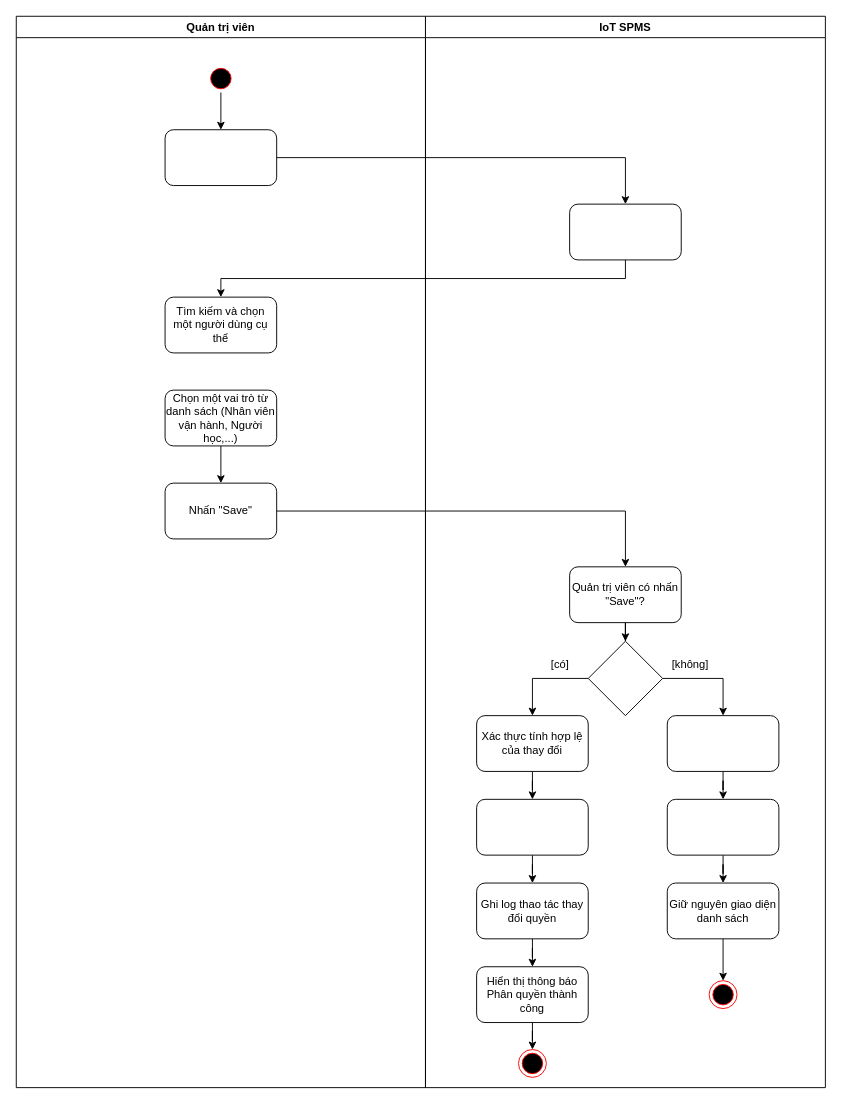
Some shapes in this 842 by 1104 pixel diagram are drawn without their labels. The shapes that lost their labels are listed below. From the top down, each one's centre as x and y in pixels, then its label:
point (220, 157): Truy cập trang "User Access Management"
point (625, 231): Hiển thị danh sách người dùng và vai trò (role) hiện tại
point (722, 743): Đóng cửa sổ phân quyền
point (532, 826): Cập nhật vai trò mới vào CSDL
point (722, 826): Không lưu thay đổi
